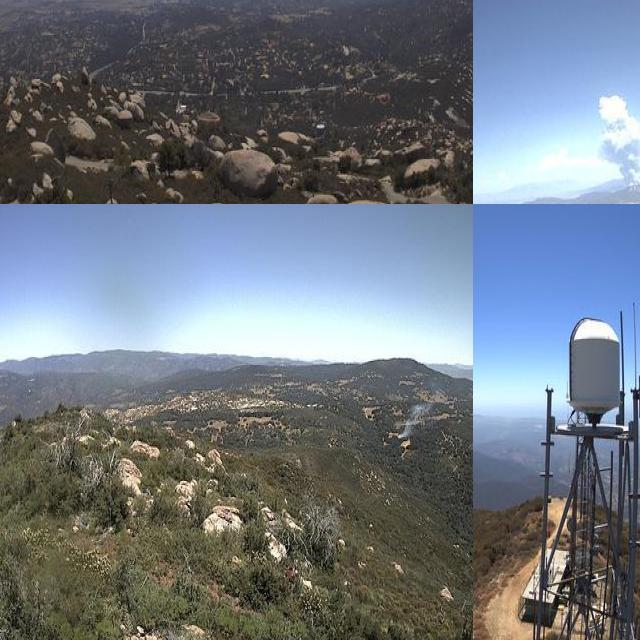smoke: (593, 90, 640, 195), (395, 388, 443, 436)
